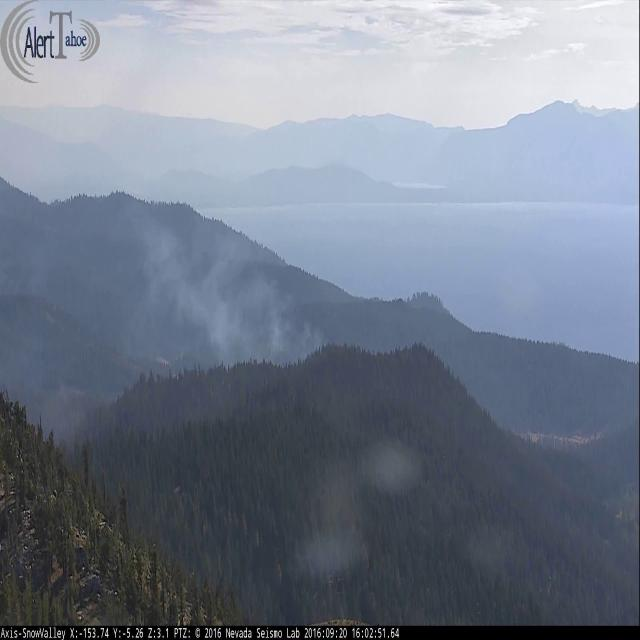smoke: (0, 191, 330, 429)
